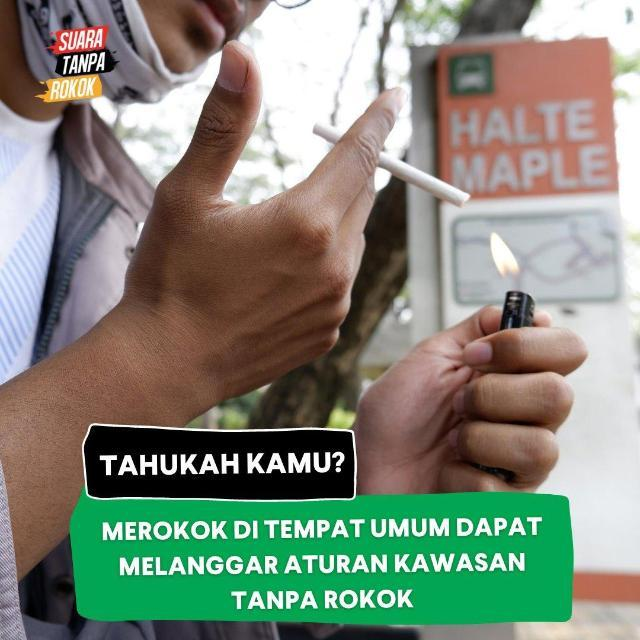rokok: (310, 115, 480, 212)
